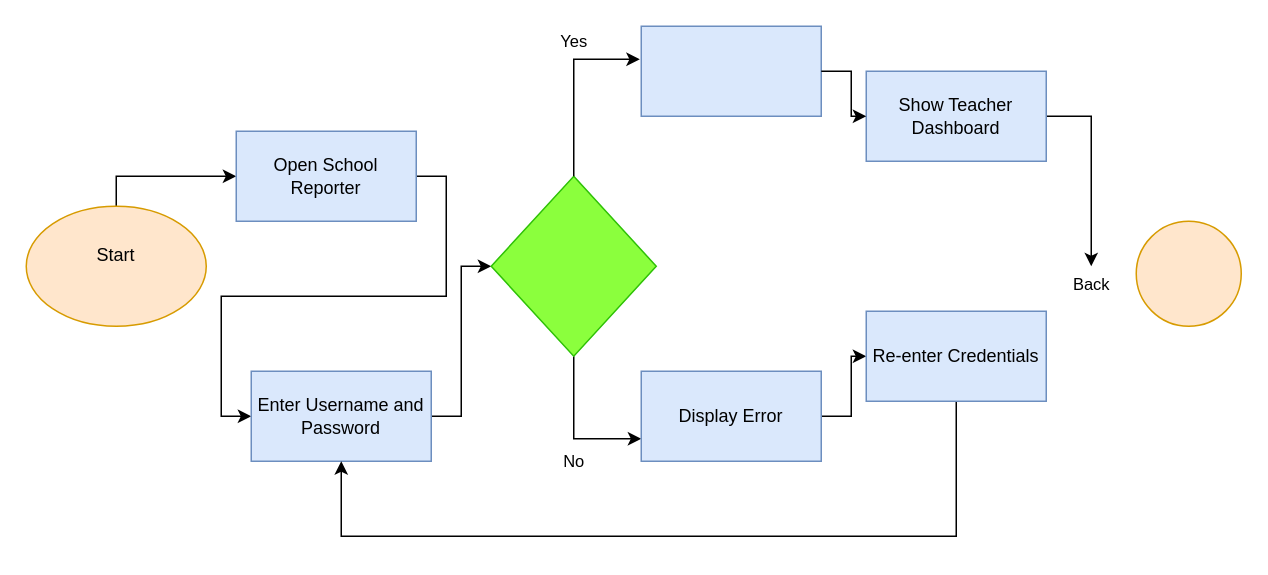
Image size: 1268x575. Some labels were removed from this diagram. Each missing label, with the box of its shape:
Create Secure Session: (640, 25, 821, 116)
Credentials Valid?: (490, 175, 656, 356)
End: (1135, 220, 1241, 326)
